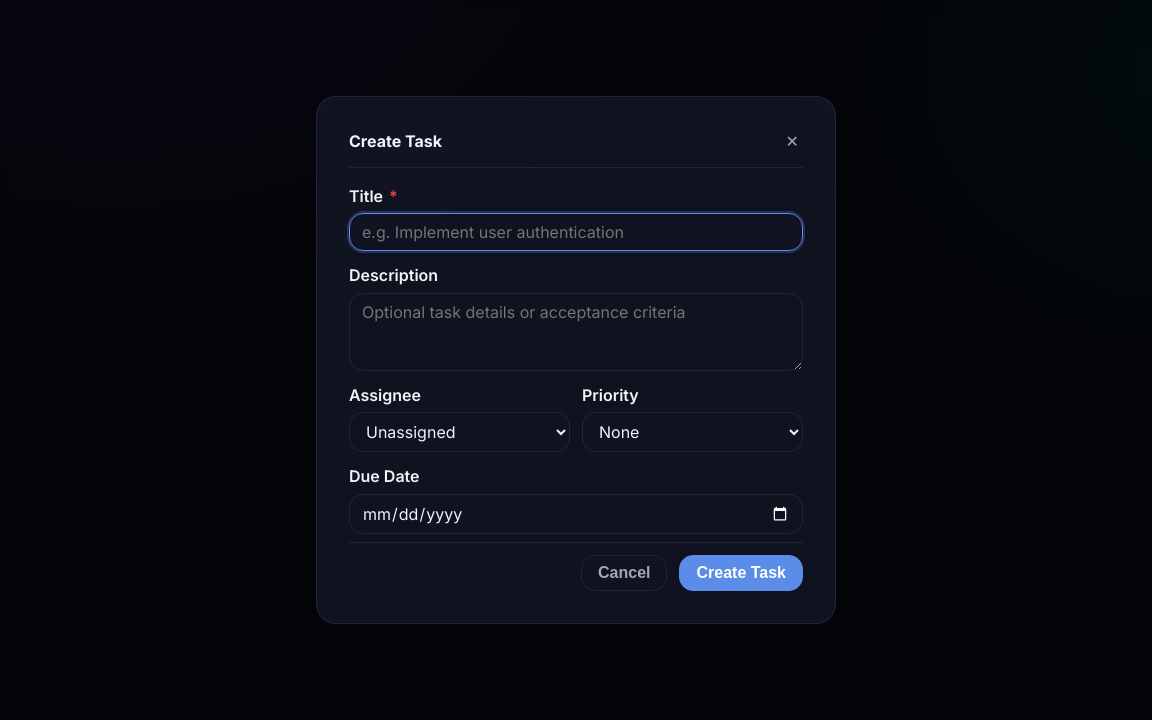
Test: CreateTaskForm Component › shows "Title is required" under title when title is empty
Click the button "Create Task": (741, 573) [680,555,803,591]
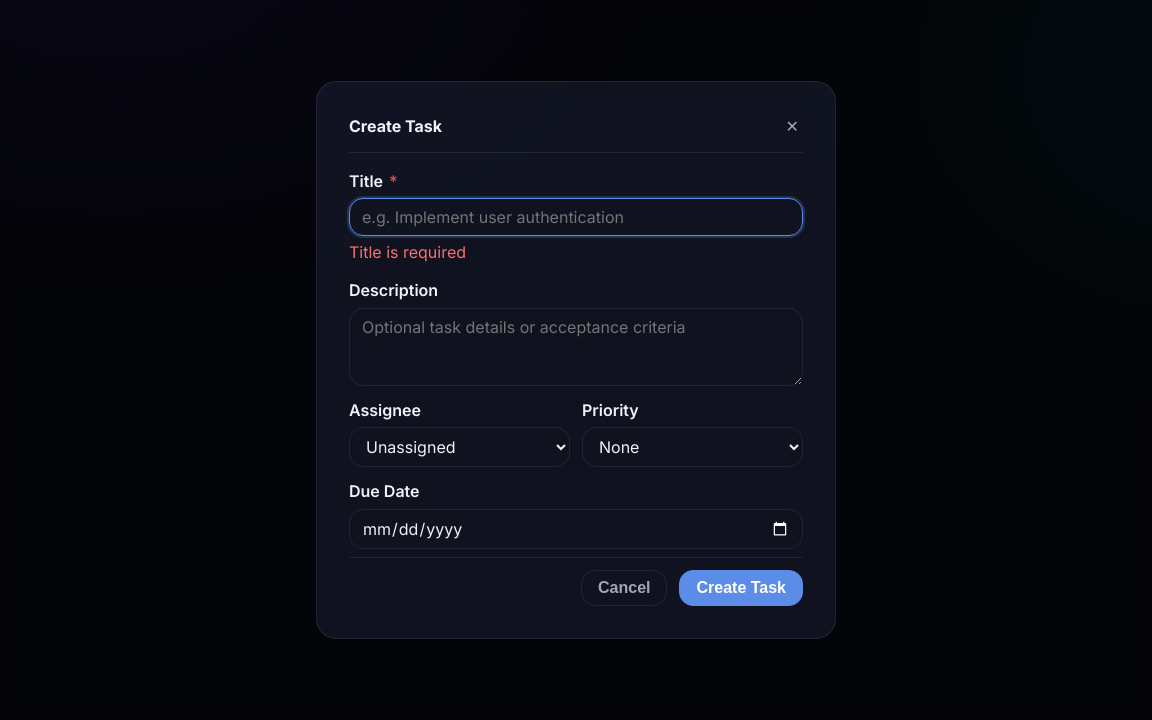
expect the text "Title is required" is shown: met, box [349,242,466,262]
